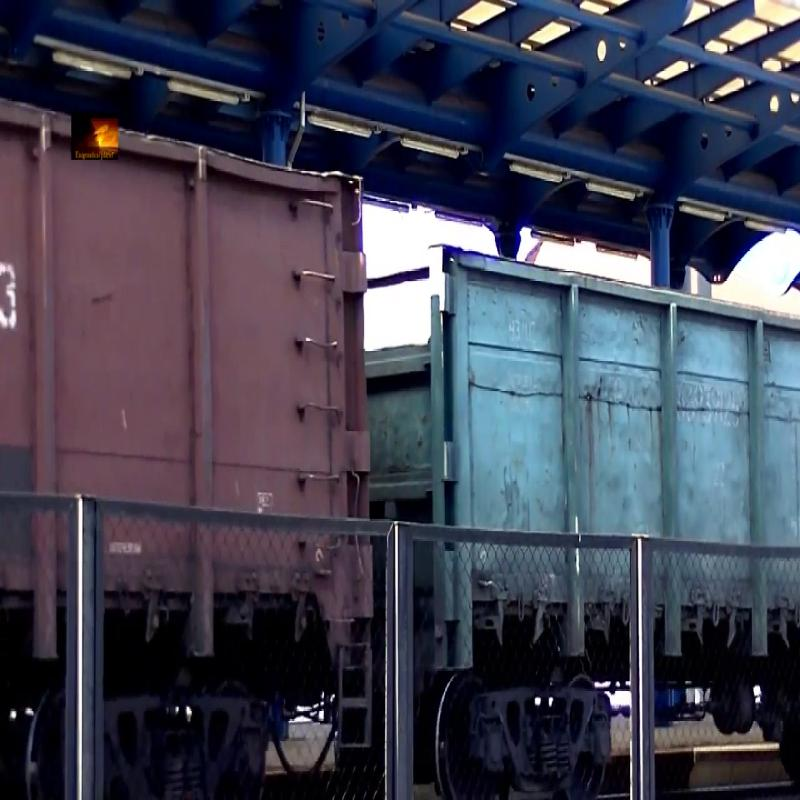train: (1, 47, 450, 775), (460, 49, 800, 773)
